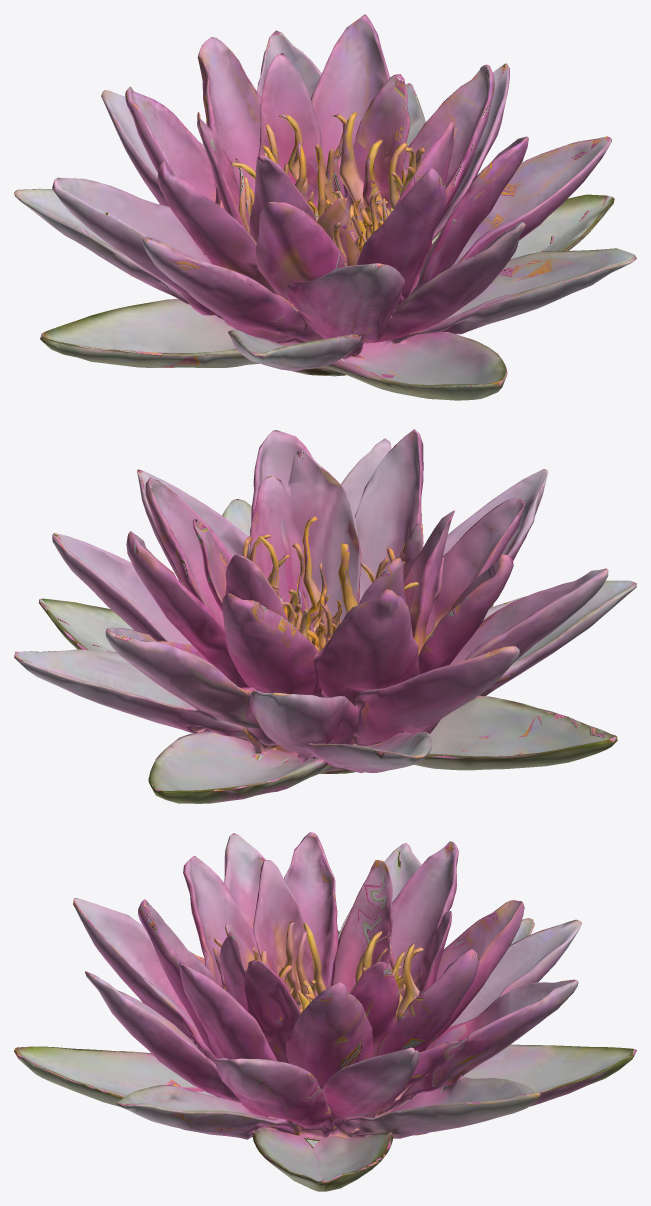
3 views of the same model, one above another, from view 1: azimuth 30°, elevation 25°; view 2: azimuth 150°, elevation 25°; view 3: azimuth 270°, elevation 25° (orthographic). The views are drawn at different scales.
Visible parts, largest first — view 1: mesh_node; view 2: mesh_node; view 3: mesh_node.
Part boxes in pixels (box(x1,y1,x2,y2)): mesh_node: box(14, 14, 636, 400); mesh_node: box(14, 429, 636, 803); mesh_node: box(14, 832, 636, 1191).
Size of the model in its own units: 1.89 by 0.7787 by 1.9.
1 material, 1 textured.
